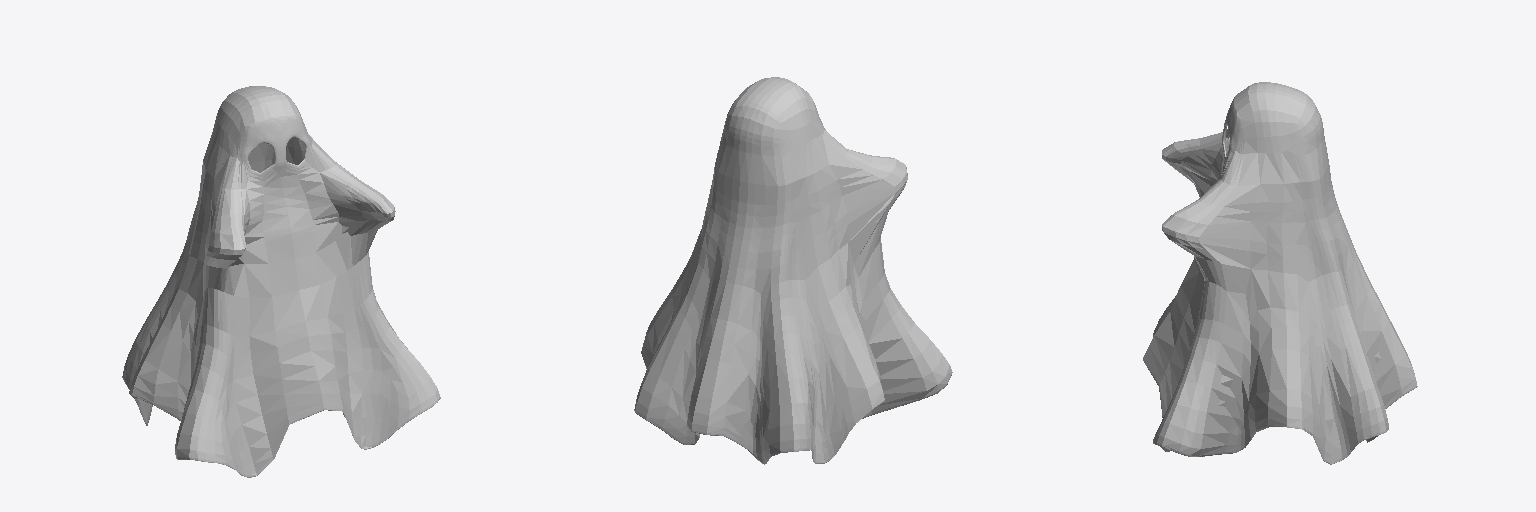
The picture shows the model from 3 angles: view 1: azimuth 30°, elevation 25°; view 2: azimuth 150°, elevation 25°; view 3: azimuth 270°, elevation 25°; orthographic projection.
Parts seen in each view (by area): view 1: youlinguu2:Group3 walk1; view 2: youlinguu2:Group3 walk1; view 3: youlinguu2:Group3 walk1.
Part boxes in pixels (bbox=[...]): youlinguu2:Group3 walk1: bbox=[122, 86, 440, 477]; youlinguu2:Group3 walk1: bbox=[634, 77, 952, 464]; youlinguu2:Group3 walk1: bbox=[1143, 82, 1417, 464].
Size of the model in its own units: 31.87 by 39.8 by 29.44.